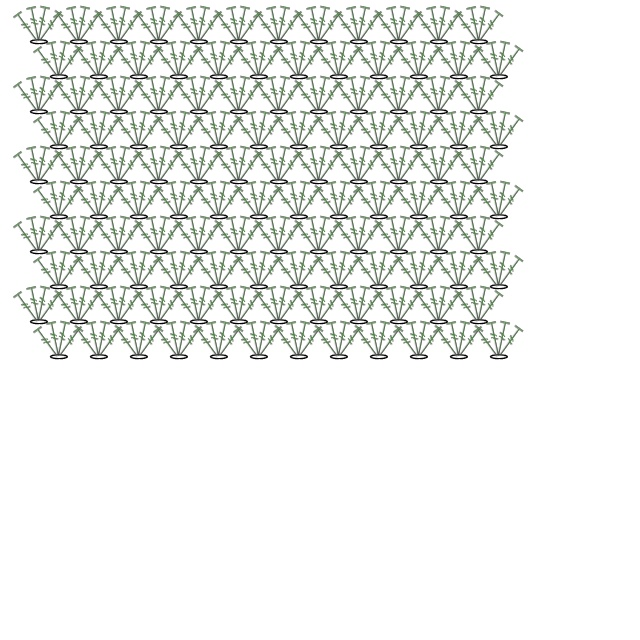chain: (28, 38, 50, 46), (68, 38, 90, 46), (108, 38, 130, 46), (148, 38, 170, 46), (188, 38, 210, 46), (228, 38, 250, 46), (268, 38, 290, 46), (308, 38, 330, 46), (348, 38, 370, 46), (388, 38, 410, 46), (428, 38, 450, 46), (468, 38, 490, 46), (48, 73, 70, 81), (88, 73, 110, 81), (128, 73, 150, 81), (168, 73, 190, 81), (208, 73, 230, 81), (248, 73, 270, 81), (288, 73, 310, 81), (328, 73, 350, 81), (368, 73, 390, 81), (408, 73, 430, 81), (448, 73, 470, 81), (488, 73, 510, 81), (28, 108, 50, 116), (68, 108, 90, 116), (108, 108, 130, 116), (148, 108, 170, 116), (188, 108, 210, 116), (228, 108, 250, 116), (268, 108, 290, 116), (308, 108, 330, 116), (348, 108, 370, 116), (388, 108, 410, 116), (428, 108, 450, 116), (468, 108, 490, 116), (48, 143, 70, 151), (88, 143, 110, 151), (128, 143, 150, 151), (168, 143, 190, 151), (208, 143, 230, 151), (248, 143, 270, 151), (288, 143, 310, 151), (328, 143, 350, 151), (368, 143, 390, 151), (408, 143, 430, 151), (448, 143, 470, 151), (488, 143, 510, 151), (28, 178, 50, 186), (68, 178, 90, 186), (108, 178, 130, 186), (148, 178, 170, 186), (188, 178, 210, 186), (228, 178, 250, 186), (268, 178, 290, 186), (308, 178, 330, 186), (348, 178, 370, 186), (388, 178, 410, 186), (428, 178, 450, 186), (468, 178, 490, 186), (48, 213, 70, 221), (88, 213, 110, 221), (128, 213, 150, 221), (168, 213, 190, 221), (208, 213, 230, 221), (248, 213, 270, 221), (288, 213, 310, 221), (328, 213, 350, 221), (368, 213, 390, 221), (408, 213, 430, 221), (448, 213, 470, 221), (488, 213, 510, 221), (28, 248, 50, 256), (68, 248, 90, 256), (108, 248, 130, 256), (148, 248, 170, 256), (188, 248, 210, 256), (228, 248, 250, 256), (268, 248, 290, 256), (308, 248, 330, 256), (348, 248, 370, 256), (388, 248, 410, 256), (428, 248, 450, 256), (468, 248, 490, 256), (48, 283, 70, 291), (88, 283, 110, 291), (128, 283, 150, 291), (168, 283, 190, 291), (208, 283, 230, 291), (248, 283, 270, 291), (288, 283, 310, 291), (328, 283, 350, 291), (368, 283, 390, 291), (408, 283, 430, 291), (448, 283, 470, 291), (488, 283, 510, 291), (28, 318, 50, 326), (68, 318, 90, 326), (108, 318, 130, 326), (148, 318, 170, 326), (188, 318, 210, 326), (228, 318, 250, 326), (268, 318, 290, 326), (308, 318, 330, 326), (348, 318, 370, 326), (388, 318, 410, 326), (428, 318, 450, 326), (468, 318, 490, 326), (48, 353, 70, 361), (88, 353, 110, 361), (128, 353, 150, 361), (168, 353, 190, 361), (208, 353, 230, 361), (248, 353, 270, 361), (288, 353, 310, 361), (328, 353, 350, 361), (368, 353, 390, 361), (408, 353, 430, 361), (448, 353, 470, 361), (488, 353, 510, 361)
fan: (13, 9, 44, 46), (34, 9, 65, 46), (53, 9, 84, 46), (74, 9, 105, 46), (93, 9, 124, 46), (114, 9, 145, 46), (133, 9, 164, 46), (154, 9, 185, 46), (173, 9, 204, 46), (194, 9, 225, 46), (213, 9, 244, 46), (234, 9, 265, 46), (253, 9, 284, 46), (274, 9, 305, 46), (293, 9, 324, 46), (314, 9, 345, 46), (333, 9, 364, 46), (354, 9, 385, 46), (373, 9, 404, 46), (394, 9, 425, 46), (413, 9, 444, 46), (434, 9, 465, 46), (453, 9, 484, 46), (474, 9, 505, 46), (33, 44, 64, 81), (54, 44, 85, 81), (73, 44, 104, 81), (94, 44, 125, 81), (113, 44, 144, 81), (134, 44, 165, 81), (153, 44, 184, 81), (174, 44, 205, 81), (193, 44, 224, 81), (214, 44, 245, 81), (233, 44, 264, 81), (254, 44, 285, 81), (273, 44, 304, 81), (294, 44, 325, 81), (313, 44, 344, 81), (334, 44, 365, 81), (353, 44, 384, 81), (374, 44, 405, 81), (393, 44, 424, 81), (414, 44, 445, 81), (433, 44, 464, 81), (454, 44, 485, 81), (473, 44, 504, 81), (494, 44, 525, 81), (13, 79, 44, 116), (34, 79, 65, 116), (53, 79, 84, 116), (74, 79, 105, 116), (93, 79, 124, 116), (114, 79, 145, 116), (133, 79, 164, 116), (154, 79, 185, 116), (173, 79, 204, 116), (194, 79, 225, 116), (213, 79, 244, 116), (234, 79, 265, 116), (253, 79, 284, 116), (274, 79, 305, 116), (293, 79, 324, 116), (314, 79, 345, 116), (333, 79, 364, 116), (354, 79, 385, 116), (373, 79, 404, 116), (394, 79, 425, 116), (413, 79, 444, 116), (434, 79, 465, 116), (453, 79, 484, 116), (474, 79, 505, 116), (33, 114, 64, 151), (54, 114, 85, 151), (73, 114, 104, 151), (94, 114, 125, 151), (113, 114, 144, 151), (134, 114, 165, 151), (153, 114, 184, 151), (174, 114, 205, 151), (193, 114, 224, 151), (214, 114, 245, 151), (233, 114, 264, 151), (254, 114, 285, 151), (273, 114, 304, 151), (294, 114, 325, 151), (313, 114, 344, 151), (334, 114, 365, 151), (353, 114, 384, 151), (374, 114, 405, 151), (393, 114, 424, 151), (414, 114, 445, 151), (433, 114, 464, 151), (454, 114, 485, 151), (473, 114, 504, 151), (494, 114, 525, 151), (13, 149, 44, 186), (34, 149, 65, 186), (53, 149, 84, 186), (74, 149, 105, 186), (93, 149, 124, 186), (114, 149, 145, 186), (133, 149, 164, 186), (154, 149, 185, 186), (173, 149, 204, 186), (194, 149, 225, 186), (213, 149, 244, 186), (234, 149, 265, 186), (253, 149, 284, 186), (274, 149, 305, 186), (293, 149, 324, 186), (314, 149, 345, 186), (333, 149, 364, 186), (354, 149, 385, 186), (373, 149, 404, 186), (394, 149, 425, 186), (413, 149, 444, 186), (434, 149, 465, 186), (453, 149, 484, 186), (474, 149, 505, 186), (33, 184, 64, 221), (54, 184, 85, 221), (73, 184, 104, 221), (94, 184, 125, 221), (113, 184, 144, 221), (134, 184, 165, 221), (153, 184, 184, 221), (174, 184, 205, 221), (193, 184, 224, 221), (214, 184, 245, 221), (233, 184, 264, 221), (254, 184, 285, 221), (273, 184, 304, 221), (294, 184, 325, 221), (313, 184, 344, 221), (334, 184, 365, 221), (353, 184, 384, 221), (374, 184, 405, 221), (393, 184, 424, 221), (414, 184, 445, 221), (433, 184, 464, 221), (454, 184, 485, 221), (473, 184, 504, 221), (494, 184, 525, 221), (13, 219, 44, 256), (34, 219, 65, 256), (53, 219, 84, 256), (74, 219, 105, 256), (93, 219, 124, 256), (114, 219, 145, 256), (133, 219, 164, 256), (154, 219, 185, 256), (173, 219, 204, 256), (194, 219, 225, 256), (213, 219, 244, 256), (234, 219, 265, 256), (253, 219, 284, 256), (274, 219, 305, 256), (293, 219, 324, 256), (314, 219, 345, 256), (333, 219, 364, 256), (354, 219, 385, 256), (373, 219, 404, 256), (394, 219, 425, 256), (413, 219, 444, 256), (434, 219, 465, 256), (453, 219, 484, 256), (474, 219, 505, 256), (33, 254, 64, 291), (54, 254, 85, 291), (73, 254, 104, 291), (94, 254, 125, 291), (113, 254, 144, 291), (134, 254, 165, 291), (153, 254, 184, 291), (174, 254, 205, 291), (193, 254, 224, 291), (214, 254, 245, 291), (233, 254, 264, 291), (254, 254, 285, 291), (273, 254, 304, 291), (294, 254, 325, 291), (313, 254, 344, 291), (334, 254, 365, 291), (353, 254, 384, 291), (374, 254, 405, 291), (393, 254, 424, 291), (414, 254, 445, 291), (433, 254, 464, 291), (454, 254, 485, 291), (473, 254, 504, 291), (494, 254, 525, 291), (13, 289, 44, 326), (34, 289, 65, 326), (53, 289, 84, 326), (74, 289, 105, 326), (93, 289, 124, 326), (114, 289, 145, 326), (133, 289, 164, 326), (154, 289, 185, 326), (173, 289, 204, 326), (194, 289, 225, 326), (213, 289, 244, 326), (234, 289, 265, 326), (253, 289, 284, 326), (274, 289, 305, 326), (293, 289, 324, 326), (314, 289, 345, 326), (333, 289, 364, 326), (354, 289, 385, 326), (373, 289, 404, 326), (394, 289, 425, 326), (413, 289, 444, 326), (434, 289, 465, 326), (453, 289, 484, 326), (474, 289, 505, 326), (33, 324, 64, 361), (54, 324, 85, 361), (73, 324, 104, 361), (94, 324, 125, 361), (113, 324, 144, 361), (134, 324, 165, 361), (153, 324, 184, 361), (174, 324, 205, 361), (193, 324, 224, 361), (214, 324, 245, 361), (233, 324, 264, 361), (254, 324, 285, 361), (273, 324, 304, 361), (294, 324, 325, 361), (313, 324, 344, 361), (334, 324, 365, 361), (353, 324, 384, 361), (374, 324, 405, 361), (393, 324, 424, 361), (414, 324, 445, 361), (433, 324, 464, 361), (454, 324, 485, 361), (473, 324, 504, 361), (494, 324, 525, 361), (25, 5, 45, 43), (33, 5, 53, 43), (65, 5, 85, 43), (73, 5, 93, 43), (105, 5, 125, 43), (113, 5, 133, 43), (145, 5, 165, 43), (153, 5, 173, 43), (185, 5, 205, 43), (193, 5, 213, 43), (225, 5, 245, 43), (233, 5, 253, 43), (265, 5, 285, 43), (273, 5, 293, 43), (305, 5, 325, 43), (313, 5, 333, 43), (345, 5, 365, 43), (353, 5, 373, 43), (385, 5, 405, 43), (393, 5, 413, 43), (425, 5, 445, 43), (433, 5, 453, 43), (465, 5, 485, 43), (473, 5, 493, 43), (45, 40, 65, 78), (53, 40, 73, 78), (85, 40, 105, 78), (93, 40, 113, 78), (125, 40, 145, 78), (133, 40, 153, 78), (165, 40, 185, 78), (173, 40, 193, 78), (205, 40, 225, 78), (213, 40, 233, 78), (245, 40, 265, 78), (253, 40, 273, 78), (285, 40, 305, 78), (293, 40, 313, 78), (325, 40, 345, 78), (333, 40, 353, 78), (365, 40, 385, 78), (373, 40, 393, 78), (405, 40, 425, 78), (413, 40, 433, 78), (445, 40, 465, 78), (453, 40, 473, 78), (485, 40, 505, 78), (493, 40, 513, 78), (25, 75, 45, 113), (33, 75, 53, 113), (65, 75, 85, 113), (73, 75, 93, 113), (105, 75, 125, 113), (113, 75, 133, 113), (145, 75, 165, 113), (153, 75, 173, 113), (185, 75, 205, 113), (193, 75, 213, 113), (225, 75, 245, 113), (233, 75, 253, 113), (265, 75, 285, 113), (273, 75, 293, 113), (305, 75, 325, 113), (313, 75, 333, 113), (345, 75, 365, 113), (353, 75, 373, 113), (385, 75, 405, 113), (393, 75, 413, 113), (425, 75, 445, 113), (433, 75, 453, 113), (465, 75, 485, 113), (473, 75, 493, 113), (45, 110, 65, 148), (53, 110, 73, 148), (85, 110, 105, 148), (93, 110, 113, 148), (125, 110, 145, 148), (133, 110, 153, 148), (165, 110, 185, 148), (173, 110, 193, 148), (205, 110, 225, 148), (213, 110, 233, 148), (245, 110, 265, 148), (253, 110, 273, 148), (285, 110, 305, 148), (293, 110, 313, 148), (325, 110, 345, 148), (333, 110, 353, 148), (365, 110, 385, 148), (373, 110, 393, 148), (405, 110, 425, 148), (413, 110, 433, 148), (445, 110, 465, 148), (453, 110, 473, 148), (485, 110, 505, 148), (493, 110, 513, 148), (25, 145, 45, 183), (33, 145, 53, 183), (65, 145, 85, 183), (73, 145, 93, 183), (105, 145, 125, 183), (113, 145, 133, 183), (145, 145, 165, 183), (153, 145, 173, 183), (185, 145, 205, 183), (193, 145, 213, 183), (225, 145, 245, 183), (233, 145, 253, 183), (265, 145, 285, 183), (273, 145, 293, 183), (305, 145, 325, 183), (313, 145, 333, 183), (345, 145, 365, 183), (353, 145, 373, 183), (385, 145, 405, 183), (393, 145, 413, 183), (425, 145, 445, 183), (433, 145, 453, 183), (465, 145, 485, 183), (473, 145, 493, 183), (45, 180, 65, 218), (53, 180, 73, 218), (85, 180, 105, 218), (93, 180, 113, 218), (125, 180, 145, 218), (133, 180, 153, 218), (165, 180, 185, 218), (173, 180, 193, 218), (205, 180, 225, 218), (213, 180, 233, 218), (245, 180, 265, 218), (253, 180, 273, 218), (285, 180, 305, 218), (293, 180, 313, 218), (325, 180, 345, 218), (333, 180, 353, 218), (365, 180, 385, 218), (373, 180, 393, 218), (405, 180, 425, 218), (413, 180, 433, 218), (445, 180, 465, 218), (453, 180, 473, 218), (485, 180, 505, 218), (493, 180, 513, 218), (25, 215, 45, 253), (33, 215, 53, 253), (65, 215, 85, 253), (73, 215, 93, 253), (105, 215, 125, 253), (113, 215, 133, 253), (145, 215, 165, 253), (153, 215, 173, 253), (185, 215, 205, 253), (193, 215, 213, 253), (225, 215, 245, 253), (233, 215, 253, 253), (265, 215, 285, 253), (273, 215, 293, 253), (305, 215, 325, 253), (313, 215, 333, 253), (345, 215, 365, 253), (353, 215, 373, 253), (385, 215, 405, 253), (393, 215, 413, 253), (425, 215, 445, 253), (433, 215, 453, 253), (465, 215, 485, 253), (473, 215, 493, 253), (45, 250, 65, 288), (53, 250, 73, 288), (85, 250, 105, 288), (93, 250, 113, 288), (125, 250, 145, 288), (133, 250, 153, 288), (165, 250, 185, 288), (173, 250, 193, 288), (205, 250, 225, 288), (213, 250, 233, 288), (245, 250, 265, 288), (253, 250, 273, 288), (285, 250, 305, 288), (293, 250, 313, 288), (325, 250, 345, 288), (333, 250, 353, 288), (365, 250, 385, 288), (373, 250, 393, 288), (405, 250, 425, 288), (413, 250, 433, 288), (445, 250, 465, 288), (453, 250, 473, 288), (485, 250, 505, 288), (493, 250, 513, 288), (25, 285, 45, 323), (33, 285, 53, 323), (65, 285, 85, 323), (73, 285, 93, 323), (105, 285, 125, 323), (113, 285, 133, 323), (145, 285, 165, 323), (153, 285, 173, 323), (185, 285, 205, 323), (193, 285, 213, 323), (225, 285, 245, 323), (233, 285, 253, 323), (265, 285, 285, 323), (273, 285, 293, 323), (305, 285, 325, 323), (313, 285, 333, 323), (345, 285, 365, 323), (353, 285, 373, 323), (385, 285, 405, 323), (393, 285, 413, 323), (425, 285, 445, 323), (433, 285, 453, 323), (465, 285, 485, 323), (473, 285, 493, 323), (45, 320, 65, 358), (53, 320, 73, 358), (85, 320, 105, 358), (93, 320, 113, 358), (125, 320, 145, 358), (133, 320, 153, 358), (165, 320, 185, 358), (173, 320, 193, 358), (205, 320, 225, 358), (213, 320, 233, 358), (245, 320, 265, 358), (253, 320, 273, 358), (285, 320, 305, 358), (293, 320, 313, 358), (325, 320, 345, 358), (333, 320, 353, 358), (365, 320, 385, 358), (373, 320, 393, 358), (405, 320, 425, 358), (413, 320, 433, 358), (445, 320, 465, 358), (453, 320, 473, 358), (485, 320, 505, 358), (493, 320, 513, 358)
